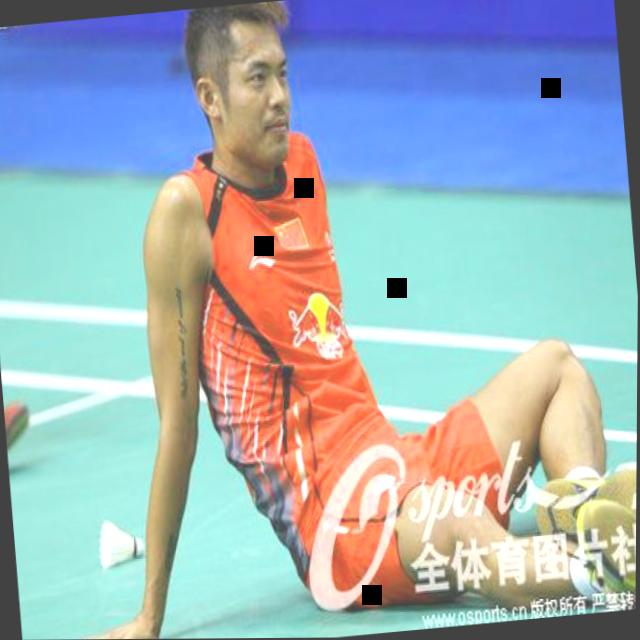Fall-Detected: (6, 0, 640, 640)
